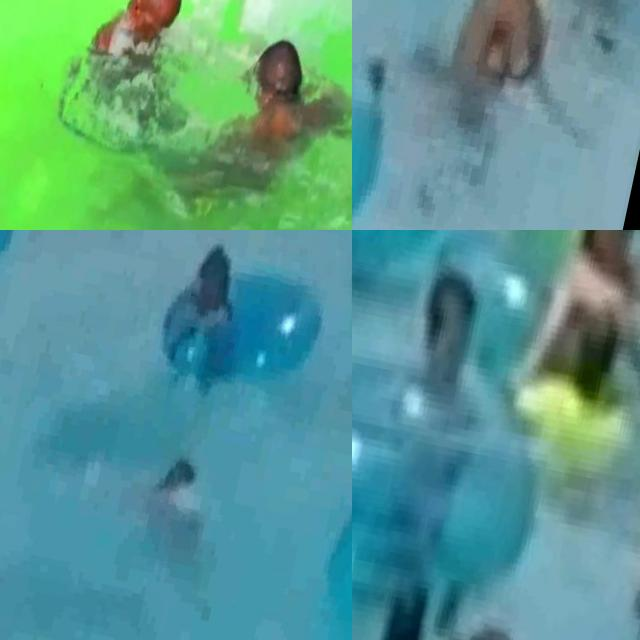drowning: (172, 0, 352, 230), (70, 407, 245, 606), (523, 230, 640, 400), (362, 554, 463, 640)
swimming: (380, 274, 498, 462), (63, 0, 213, 114)
